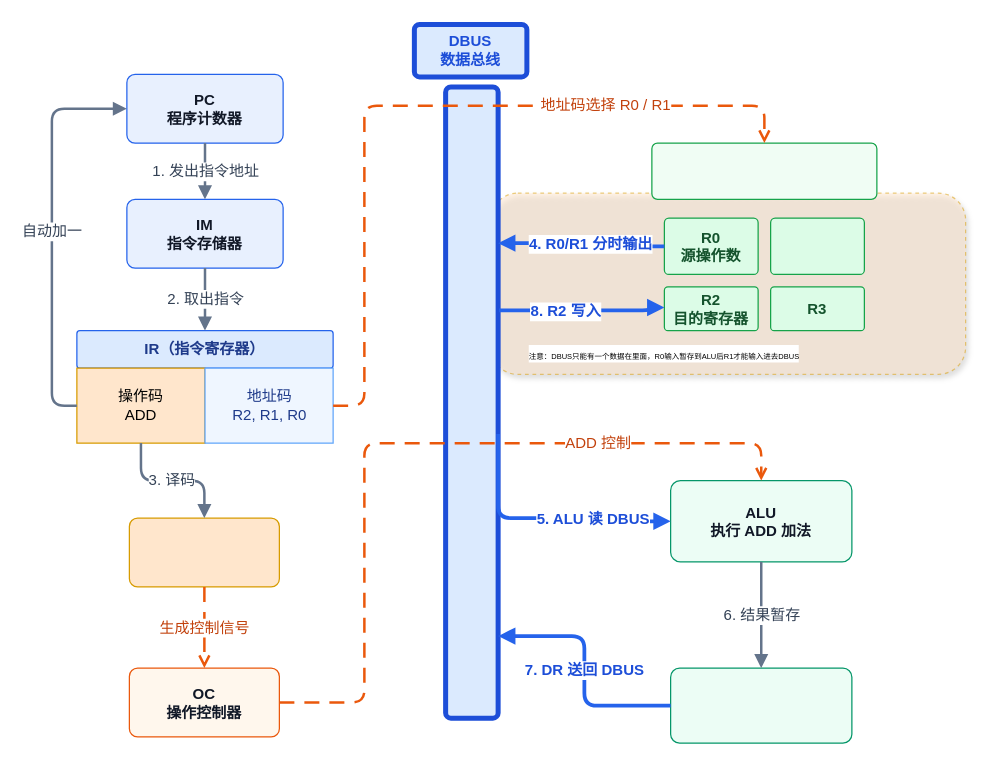
The diagram is 995 pixels wide and 765 high, and some of its shapes have lost their labels. The shapes that lost their labels are listed below. From the top down, each one's centre as x and y in pixels, then its label:
the point at 764,170: 寄存器组（R0-R3）
the point at 816,245: R1 源操作数
the point at 471,402: D B U S
the point at 203,552: 指令译码器
the point at 760,705: DR 数据缓冲寄存器
